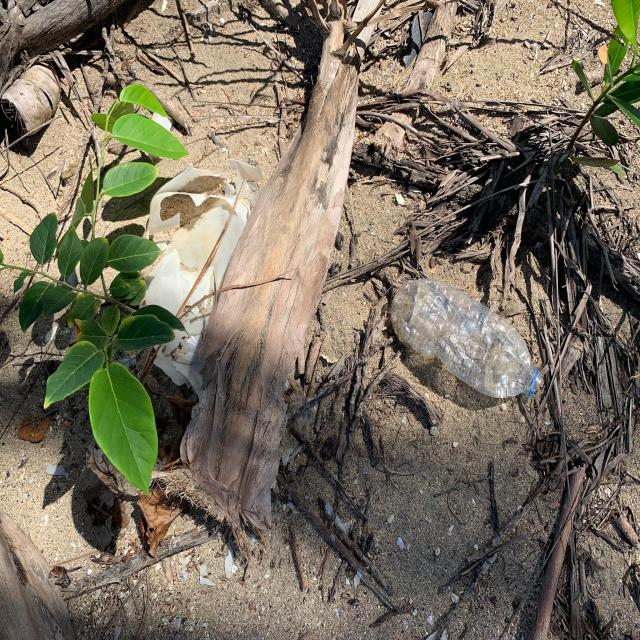litter: (139, 159, 266, 400), (391, 278, 542, 398)
